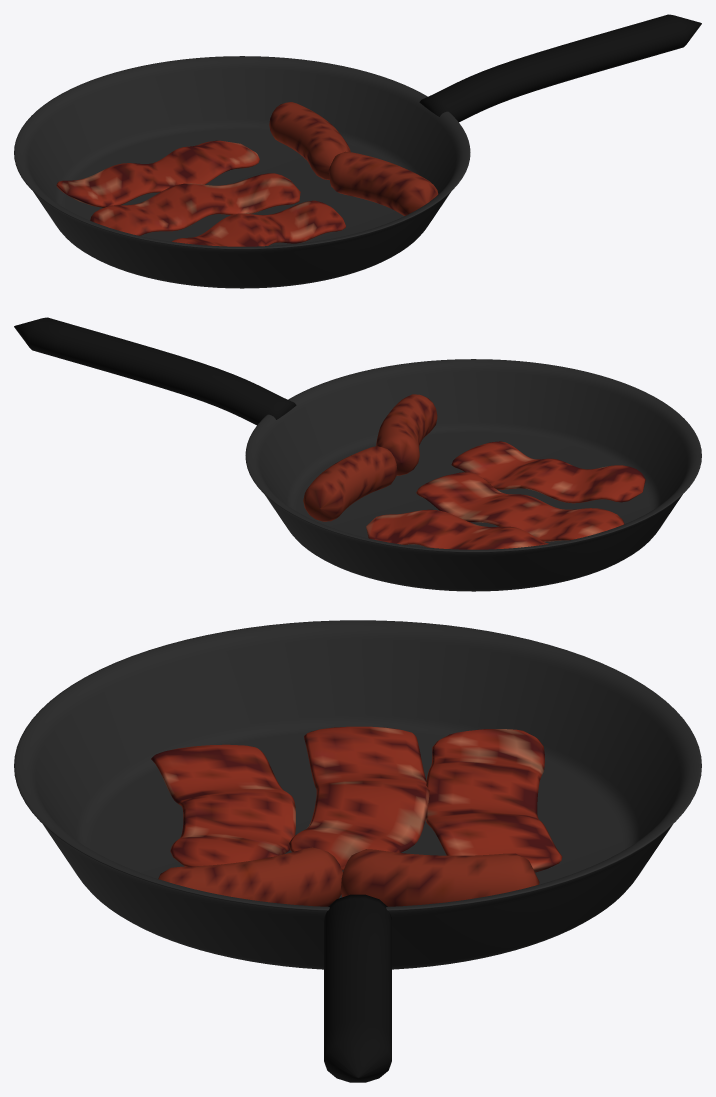
The model's file is paso-4.glb.
3 views of the same model, one above another, from view 1: azimuth 30°, elevation 25°; view 2: azimuth 150°, elevation 25°; view 3: azimuth 270°, elevation 25° (orthographic). The views are drawn at different scales.
Visible parts, largest first — view 1: paso-4-0, paso-4-1, paso-4-3, paso-4-2, paso-4-4, paso-4-6, paso-4-5; view 2: paso-4-0, paso-4-1, paso-4-3, paso-4-4, paso-4-2, paso-4-5, paso-4-6; view 3: paso-4-0, paso-4-3, paso-4-2, paso-4-4, paso-4-1, paso-4-5, paso-4-6.
Boxes of the visible parts, x1=… form: paso-4-0: x1=14, y1=56, x2=470, y2=288; paso-4-1: x1=419, y1=14, x2=701, y2=122; paso-4-3: x1=90, y1=173, x2=300, y2=235; paso-4-2: x1=56, y1=140, x2=259, y2=207; paso-4-4: x1=172, y1=200, x2=345, y2=246; paso-4-6: x1=328, y1=151, x2=438, y2=215; paso-4-5: x1=269, y1=102, x2=350, y2=179; paso-4-0: x1=245, y1=359, x2=701, y2=591; paso-4-1: x1=14, y1=317, x2=296, y2=425; paso-4-3: x1=416, y1=472, x2=624, y2=541; paso-4-4: x1=451, y1=441, x2=645, y2=503; paso-4-2: x1=366, y1=509, x2=548, y2=549; paso-4-5: x1=303, y1=446, x2=397, y2=521; paso-4-6: x1=376, y1=394, x2=437, y2=475; paso-4-0: x1=14, y1=620, x2=701, y2=969; paso-4-3: x1=289, y1=726, x2=429, y2=870; paso-4-2: x1=425, y1=729, x2=562, y2=872; paso-4-4: x1=151, y1=744, x2=295, y2=866; paso-4-1: x1=324, y1=894, x2=391, y2=1082; paso-4-5: x1=341, y1=849, x2=539, y2=906; paso-4-6: x1=158, y1=847, x2=342, y2=906.
Size of the model in its own units: 0.4219 by 0.054 by 0.2539.
